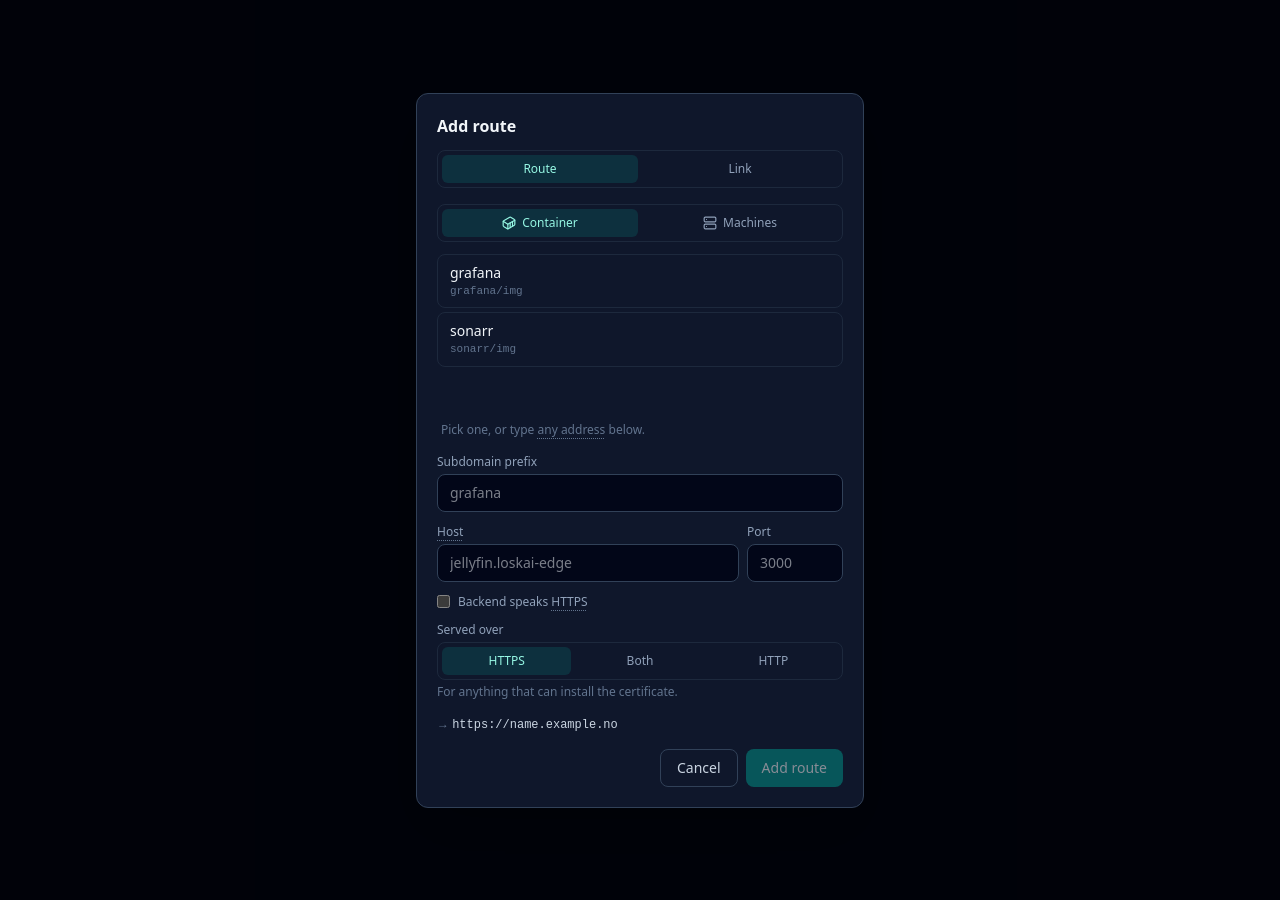
Test: a container off Caddy's network is hinted by host IP, despite docker mode
Click the text "sonarr" at (472, 331), box [450, 321, 493, 341]
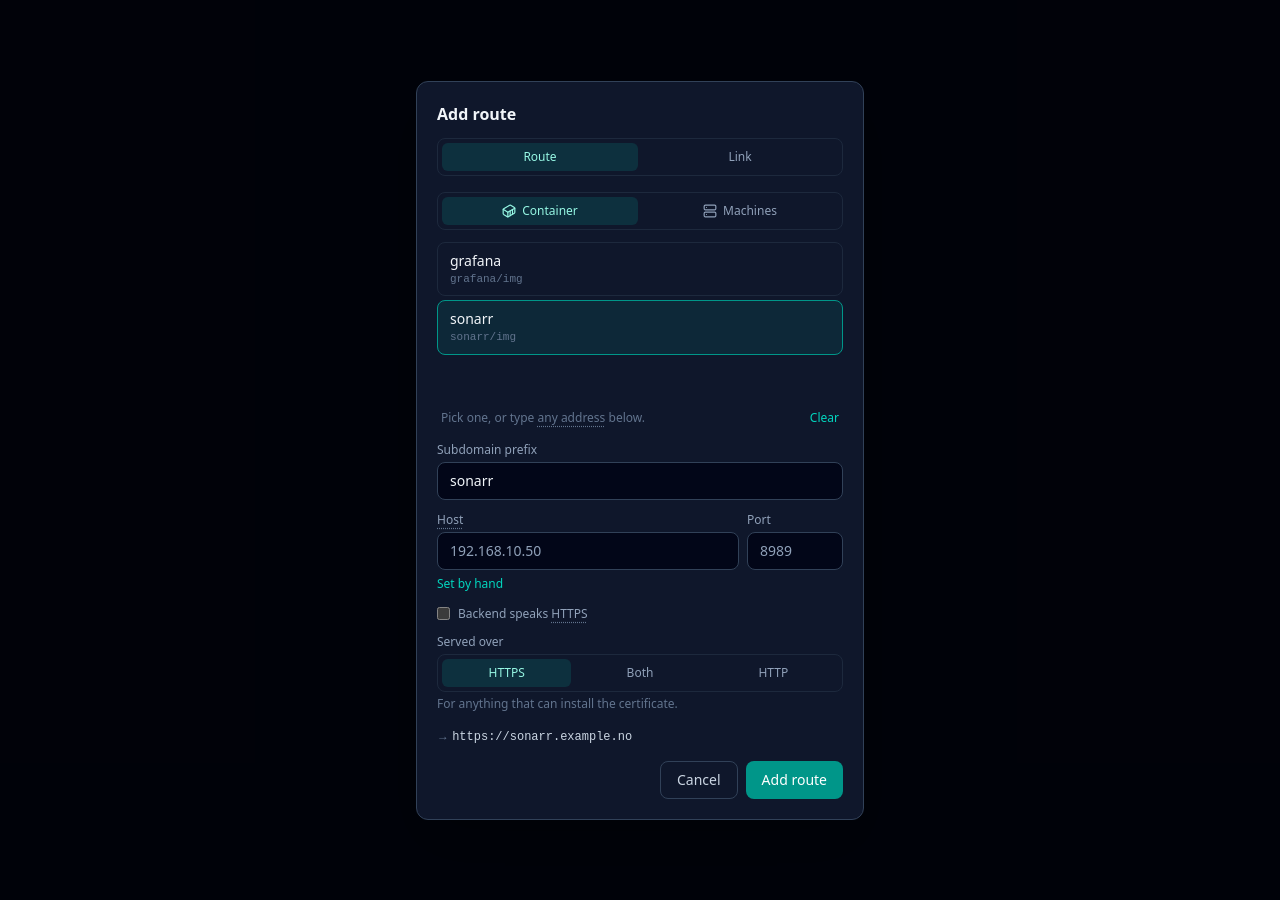
Result: the dropdown named "Host" holds "192.168.10.50" at [437, 532, 739, 570]
Result: the field labelled "Port" holds "8989" at [747, 532, 843, 570]
